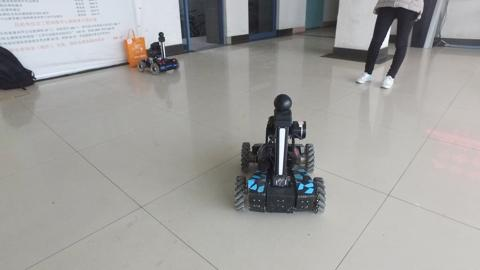bag: (1, 42, 36, 91), (121, 27, 150, 69)
chariot: (232, 93, 326, 215), (136, 30, 180, 76)
